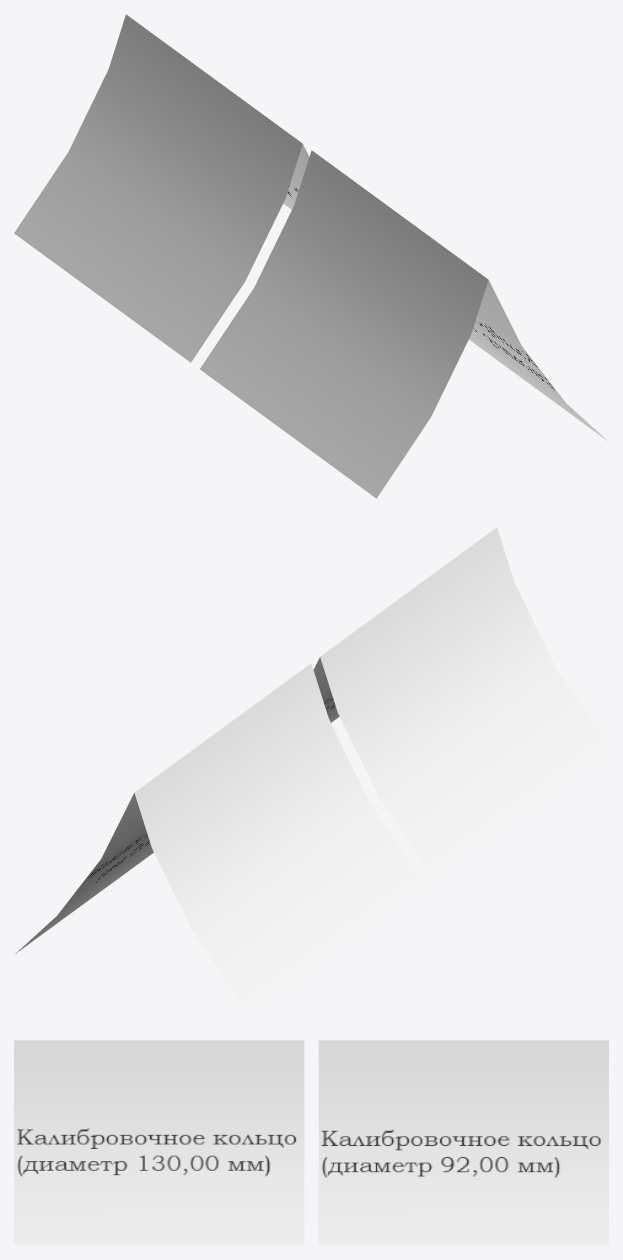
File: sticer.FBX
The picture shows the model from 3 angles, top to bottom: view 1: azimuth 30°, elevation 25°; view 2: azimuth 150°, elevation 25°; view 3: azimuth 270°, elevation 25°; orthographic projection. The views are drawn at different scales.
Visible parts, largest first — view 1: Cylinder002, Object001; view 2: Object001, Cylinder002; view 3: Cylinder002, Object001.
Boxes of the visible parts, <box> form: Cylinder002: <box>200,150,607,498</box>; Object001: <box>14,14,309,362</box>; Object001: <box>15,663,422,1011</box>; Cylinder002: <box>313,527,608,875</box>; Cylinder002: <box>14,1040,304,1245</box>; Object001: <box>318,1040,608,1245</box>.
Size of the model in its own units: 35.14 by 27.71 by 94.96.
